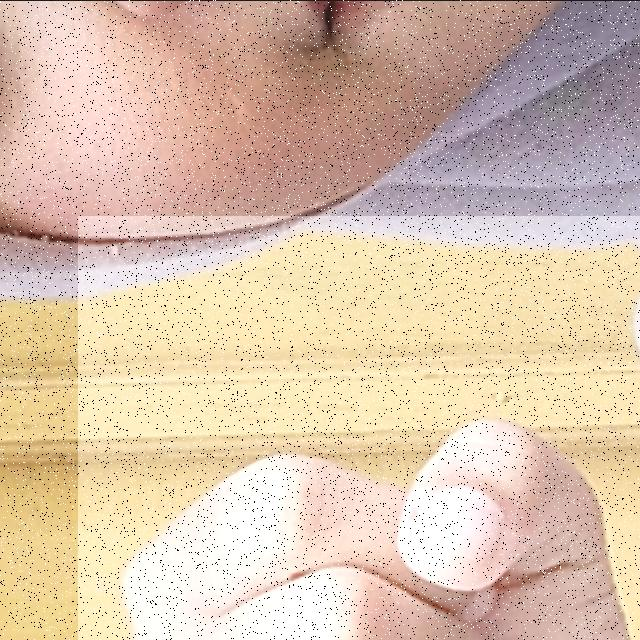baik: (78, 215, 640, 640)
